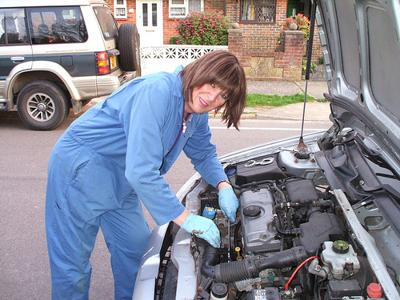person: (42, 48, 247, 300)
